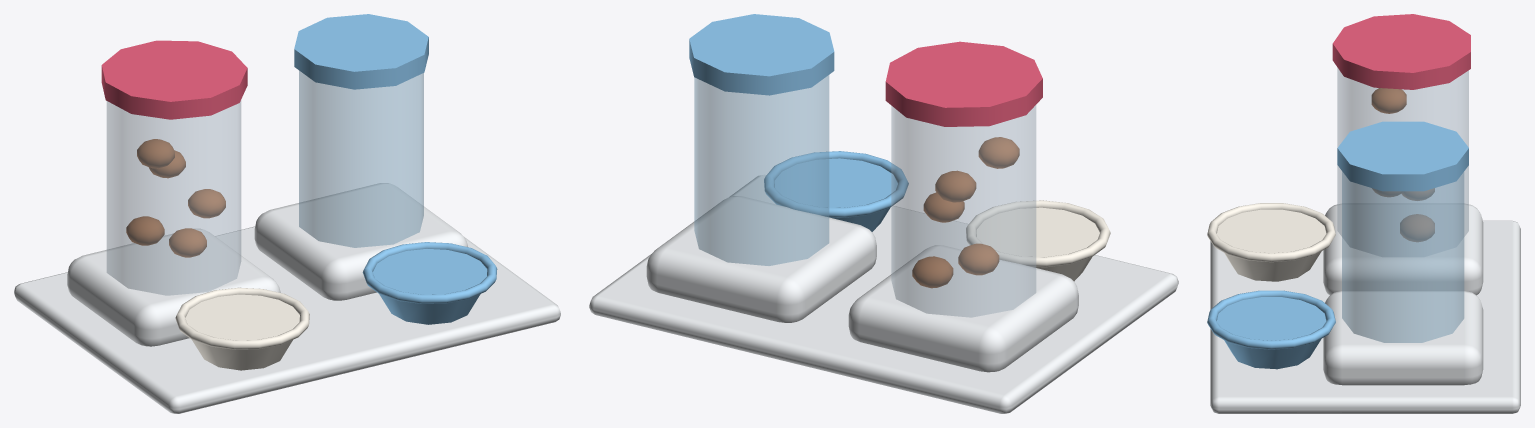
File: catfood-feeder.glb
The picture shows the model from 3 angles, left to right: view 1: azimuth 30°, elevation 25°; view 2: azimuth 150°, elevation 25°; view 3: azimuth 270°, elevation 25°; orthographic projection. The views are drawn at different scales.
Size of the model in its own units: 0.92 by 0.56 by 0.6671.
